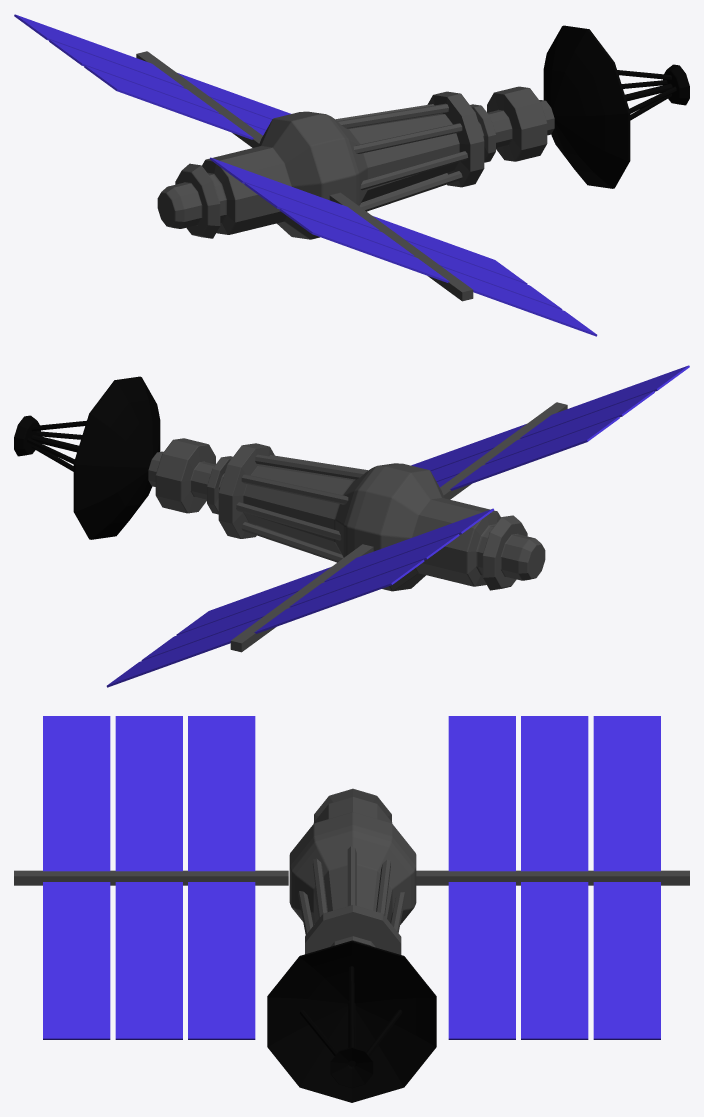
File: satelite.fbx
3 views of the same model, one above another, from view 1: azimuth 30°, elevation 25°; view 2: azimuth 150°, elevation 25°; view 3: azimuth 270°, elevation 25° (orthographic). The views are drawn at different scales.
Parts seen in each view (by area): view 1: Corpo, Panels, Antena; view 2: Corpo, Panels, Antena; view 3: Panels, Corpo, Antena.
Boxes of the visible parts, x1=… form: Corpo: x1=136, y1=51, x2=554, y2=301; Panels: x1=14, y1=14, x2=597, y2=336; Antena: x1=543, y1=25, x2=689, y2=188; Corpo: x1=148, y1=402, x2=567, y2=652; Panels: x1=106, y1=365, x2=689, y2=687; Antena: x1=14, y1=376, x2=160, y2=539; Panels: x1=43, y1=716, x2=660, y2=1039; Corpo: x1=14, y1=788, x2=689, y2=954; Antena: x1=267, y1=940, x2=436, y2=1102.
Bounding box in the file's own units: 2434 × 782 × 2658.
